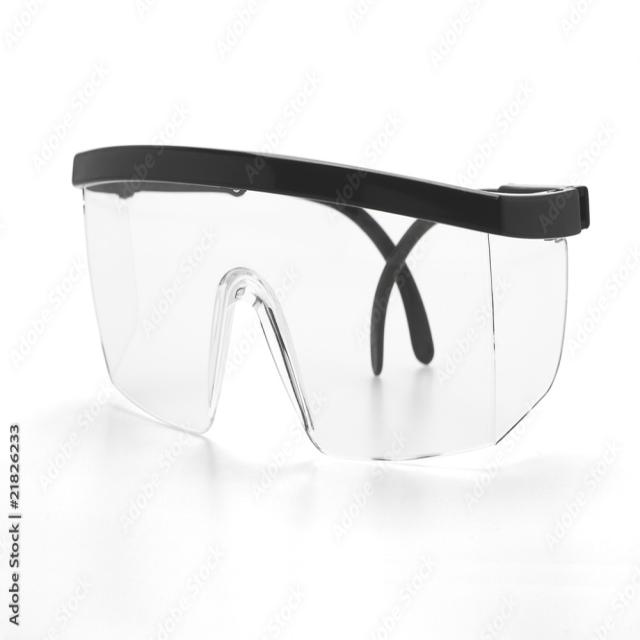Goggles: (56, 112, 589, 503)
